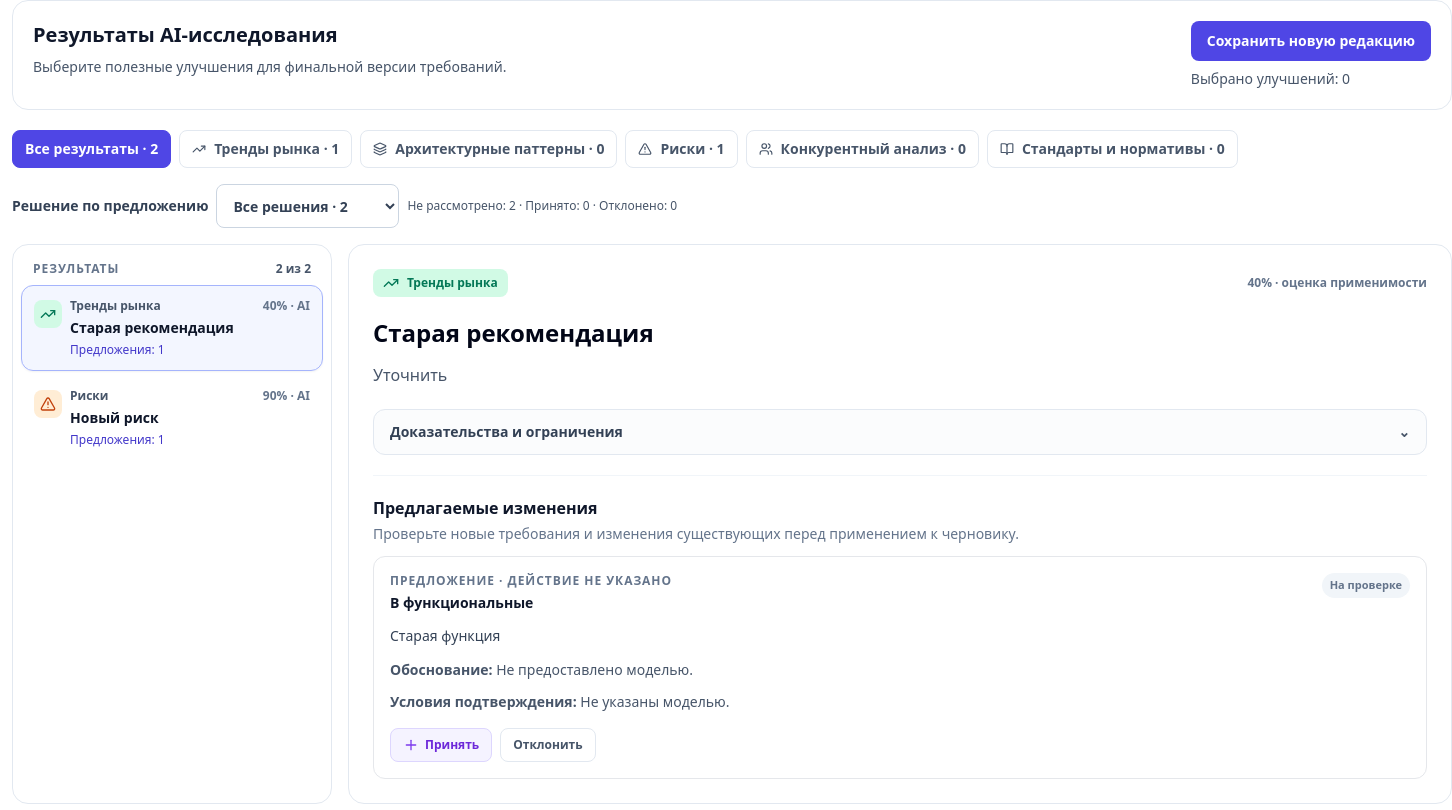
Scenario: AsyncJobWorkspace presentational branches › covers legacy research filters, decisions, source/context views and final transition
This screenshot has width=1452, height=810.
Later steps or results of the test are not shown.
Check: the heading "Результаты AI-исследования" is shown, box [33, 21, 338, 48]
Click the button "Риски · 1": (681, 149) [625, 130, 738, 168]
(page scrolled)
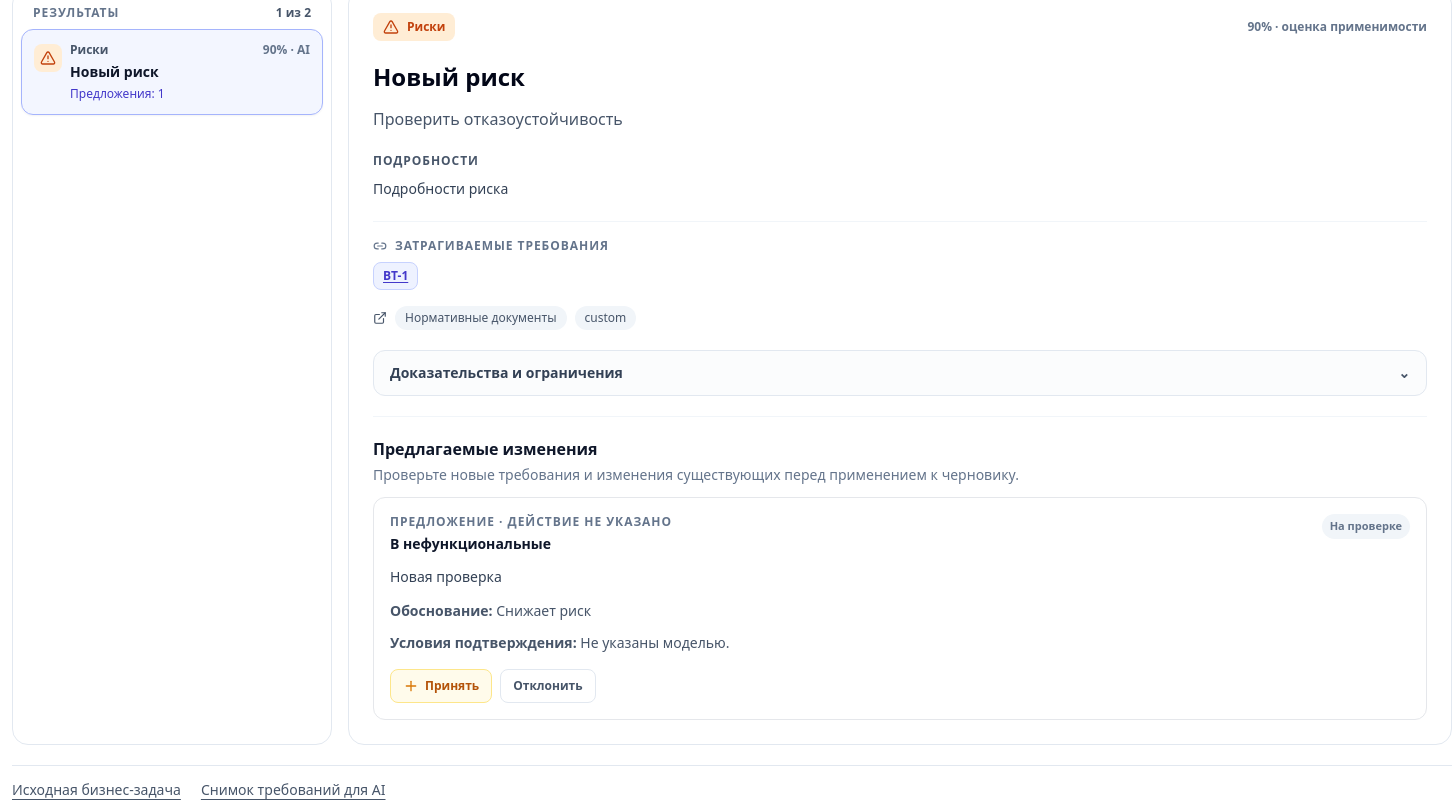
Check: the heading "Новый риск" is shown, box [373, 60, 525, 93]
Check: the button "Старая рекомендация" is gone
Check: the text "Подробности риска" is shown, box [373, 179, 508, 198]
